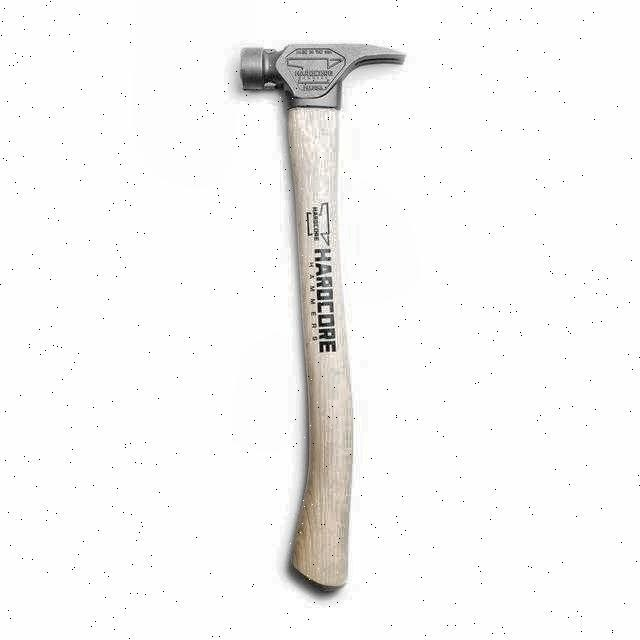hammer: (236, 40, 408, 592)
